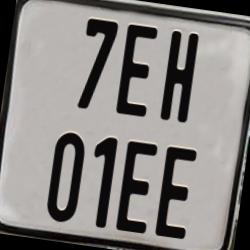0: (44, 130, 86, 223)
1: (82, 135, 118, 229)
7: (75, 17, 120, 115)
E: (154, 145, 200, 242), (115, 22, 160, 119), (115, 140, 160, 235)
H: (160, 31, 202, 127)
